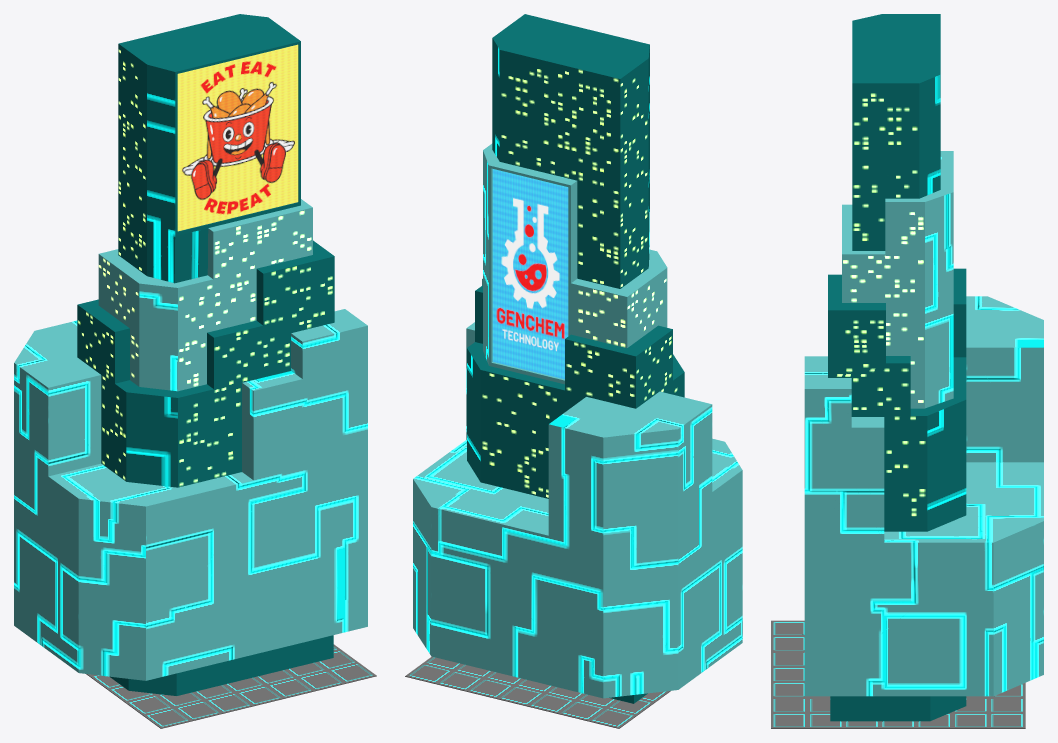
File: Bina 12.fbx
3 renders of one model, left to right at view 1: azimuth 30°, elevation 25°; view 2: azimuth 150°, elevation 25°; view 3: azimuth 270°, elevation 25°, orthographic. The views are drawn at different scales.
Visible parts, largest first — view 1: Mall, MallStand; view 2: Mall, MallStand; view 3: Mall, MallStand.
Part boxes in pixels (x1=…): Mall: x1=14, y1=14, x2=367, y2=695; MallStand: x1=86, y1=644, x2=376, y2=728; Mall: x1=413, y1=14, x2=742, y2=703; MallStand: x1=405, y1=638, x2=742, y2=728; Mall: x1=804, y1=14, x2=1043, y2=721; MallStand: x1=771, y1=620, x2=1025, y2=728.
Bounding box in the file's own units: 70.8 × 157 × 61.99.
Materials: 3 (3 with a texture image).
